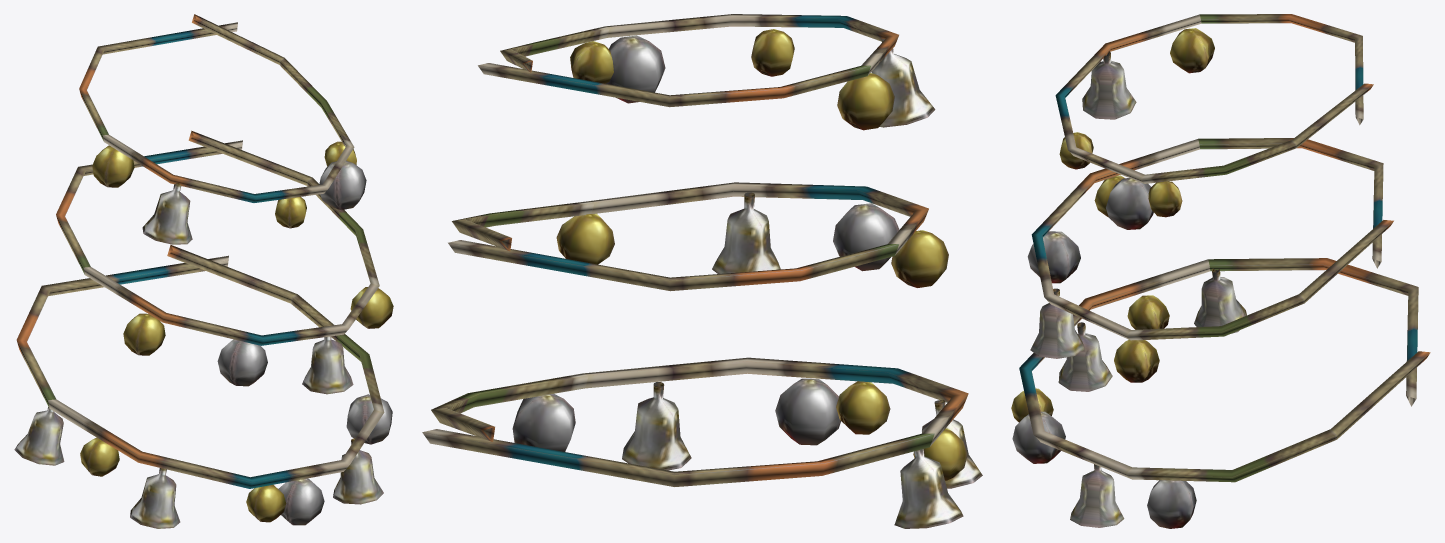
Rendered from Map_06_balloons04.FBX.
3 renders of one model, left to right at view 1: azimuth 30°, elevation 25°; view 2: azimuth 150°, elevation 25°; view 3: azimuth 270°, elevation 25°, orthographic. The views are drawn at different scales.
Visible parts, largest first — view 1: Map_06_balloons04; view 2: Map_06_balloons04; view 3: Map_06_balloons04.
Part boxes in pixels (bbox=[...]): Map_06_balloons04: bbox=[14, 14, 393, 528]; Map_06_balloons04: bbox=[422, 14, 982, 528]; Map_06_balloons04: bbox=[1011, 14, 1430, 528].
Bounding box in the file's own units: 4.74 × 5.01 × 4.56.
1 material, 1 textured.
